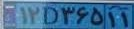character: (41, 5, 60, 28), (59, 4, 76, 26), (76, 3, 89, 29), (27, 4, 41, 28), (90, 4, 104, 28), (19, 4, 28, 28), (119, 10, 130, 29), (107, 10, 115, 29)
